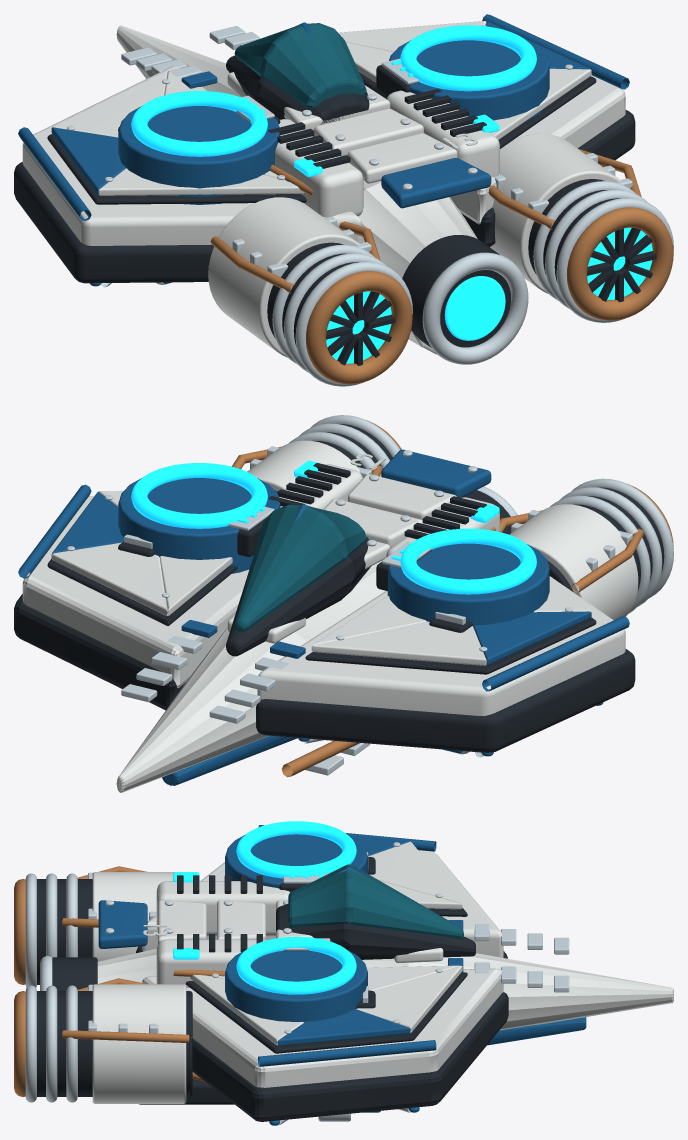
The picture shows the model from 3 angles, top to bottom: view 1: azimuth 30°, elevation 25°; view 2: azimuth 150°, elevation 25°; view 3: azimuth 270°, elevation 25°; orthographic projection. The views are drawn at different scales.
Parts seen in each view (by area): view 1: SolidHull_13; view 2: SolidHull_13; view 3: SolidHull_13.
Part boxes in pixels (left/top/right/bottom): SolidHull_13: left=14, top=14, right=673, bottom=386; SolidHull_13: left=14, top=415, right=673, bottom=792; SolidHull_13: left=14, top=821, right=673, bottom=1125.
Bounding box in the file's own units: 2.78 × 1.15 × 3.23.
